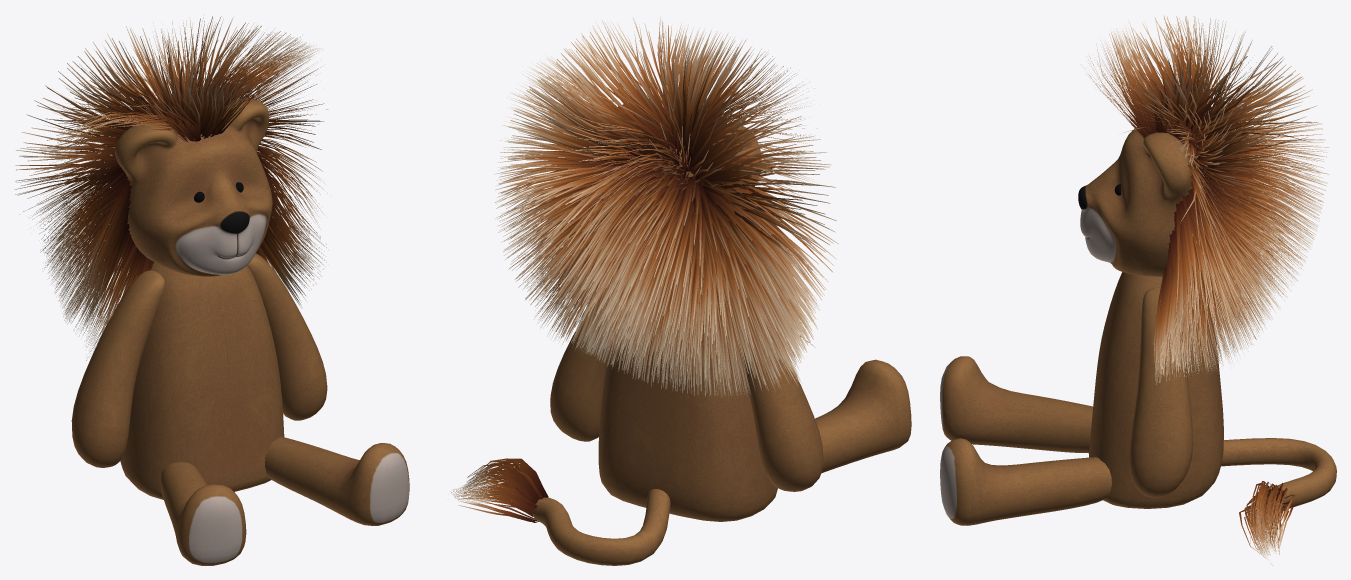
The model's file is Lion.fbx.
3 renders of one model, left to right at view 1: azimuth 30°, elevation 25°; view 2: azimuth 150°, elevation 25°; view 3: azimuth 270°, elevation 25°, orthographic. The views are drawn at different scales.
Parts seen in each view (by area): view 1: Plane.1960, Cube.002, Cube, Cube.003, Cube.004; view 2: Plane.1960, Cube.002, Cube.003, Cube.004, Cube.005, Plane.001; view 3: Plane.1960, Cube.004, Cube.002, Cube, Cube.003, Cube.005, Plane.001.
Part boxes in pixels (x1,y1,x2,y2): Plane.1960: (15,16,330,360); Cube.002: (120,262,284,499); Cube: (115,97,272,276); Cube.003: (71,253,327,467); Cube.004: (160,436,409,565); Plane.1960: (494,17,838,397); Cube.002: (598,326,777,521); Cube.003: (550,323,823,491); Cube.004: (815,359,911,473); Cube.005: (531,489,670,565); Plane.001: (450,458,548,522); Plane.1960: (1083,15,1329,384); Cube.004: (940,356,1111,525); Cube.002: (1089,272,1223,508); Cube: (1078,93,1204,276); Cube.003: (1129,287,1193,497); Cube.005: (1221,438,1336,515); Plane.001: (1239,481,1294,565).
Size of the model in its own units: 128 by 162 by 133.
